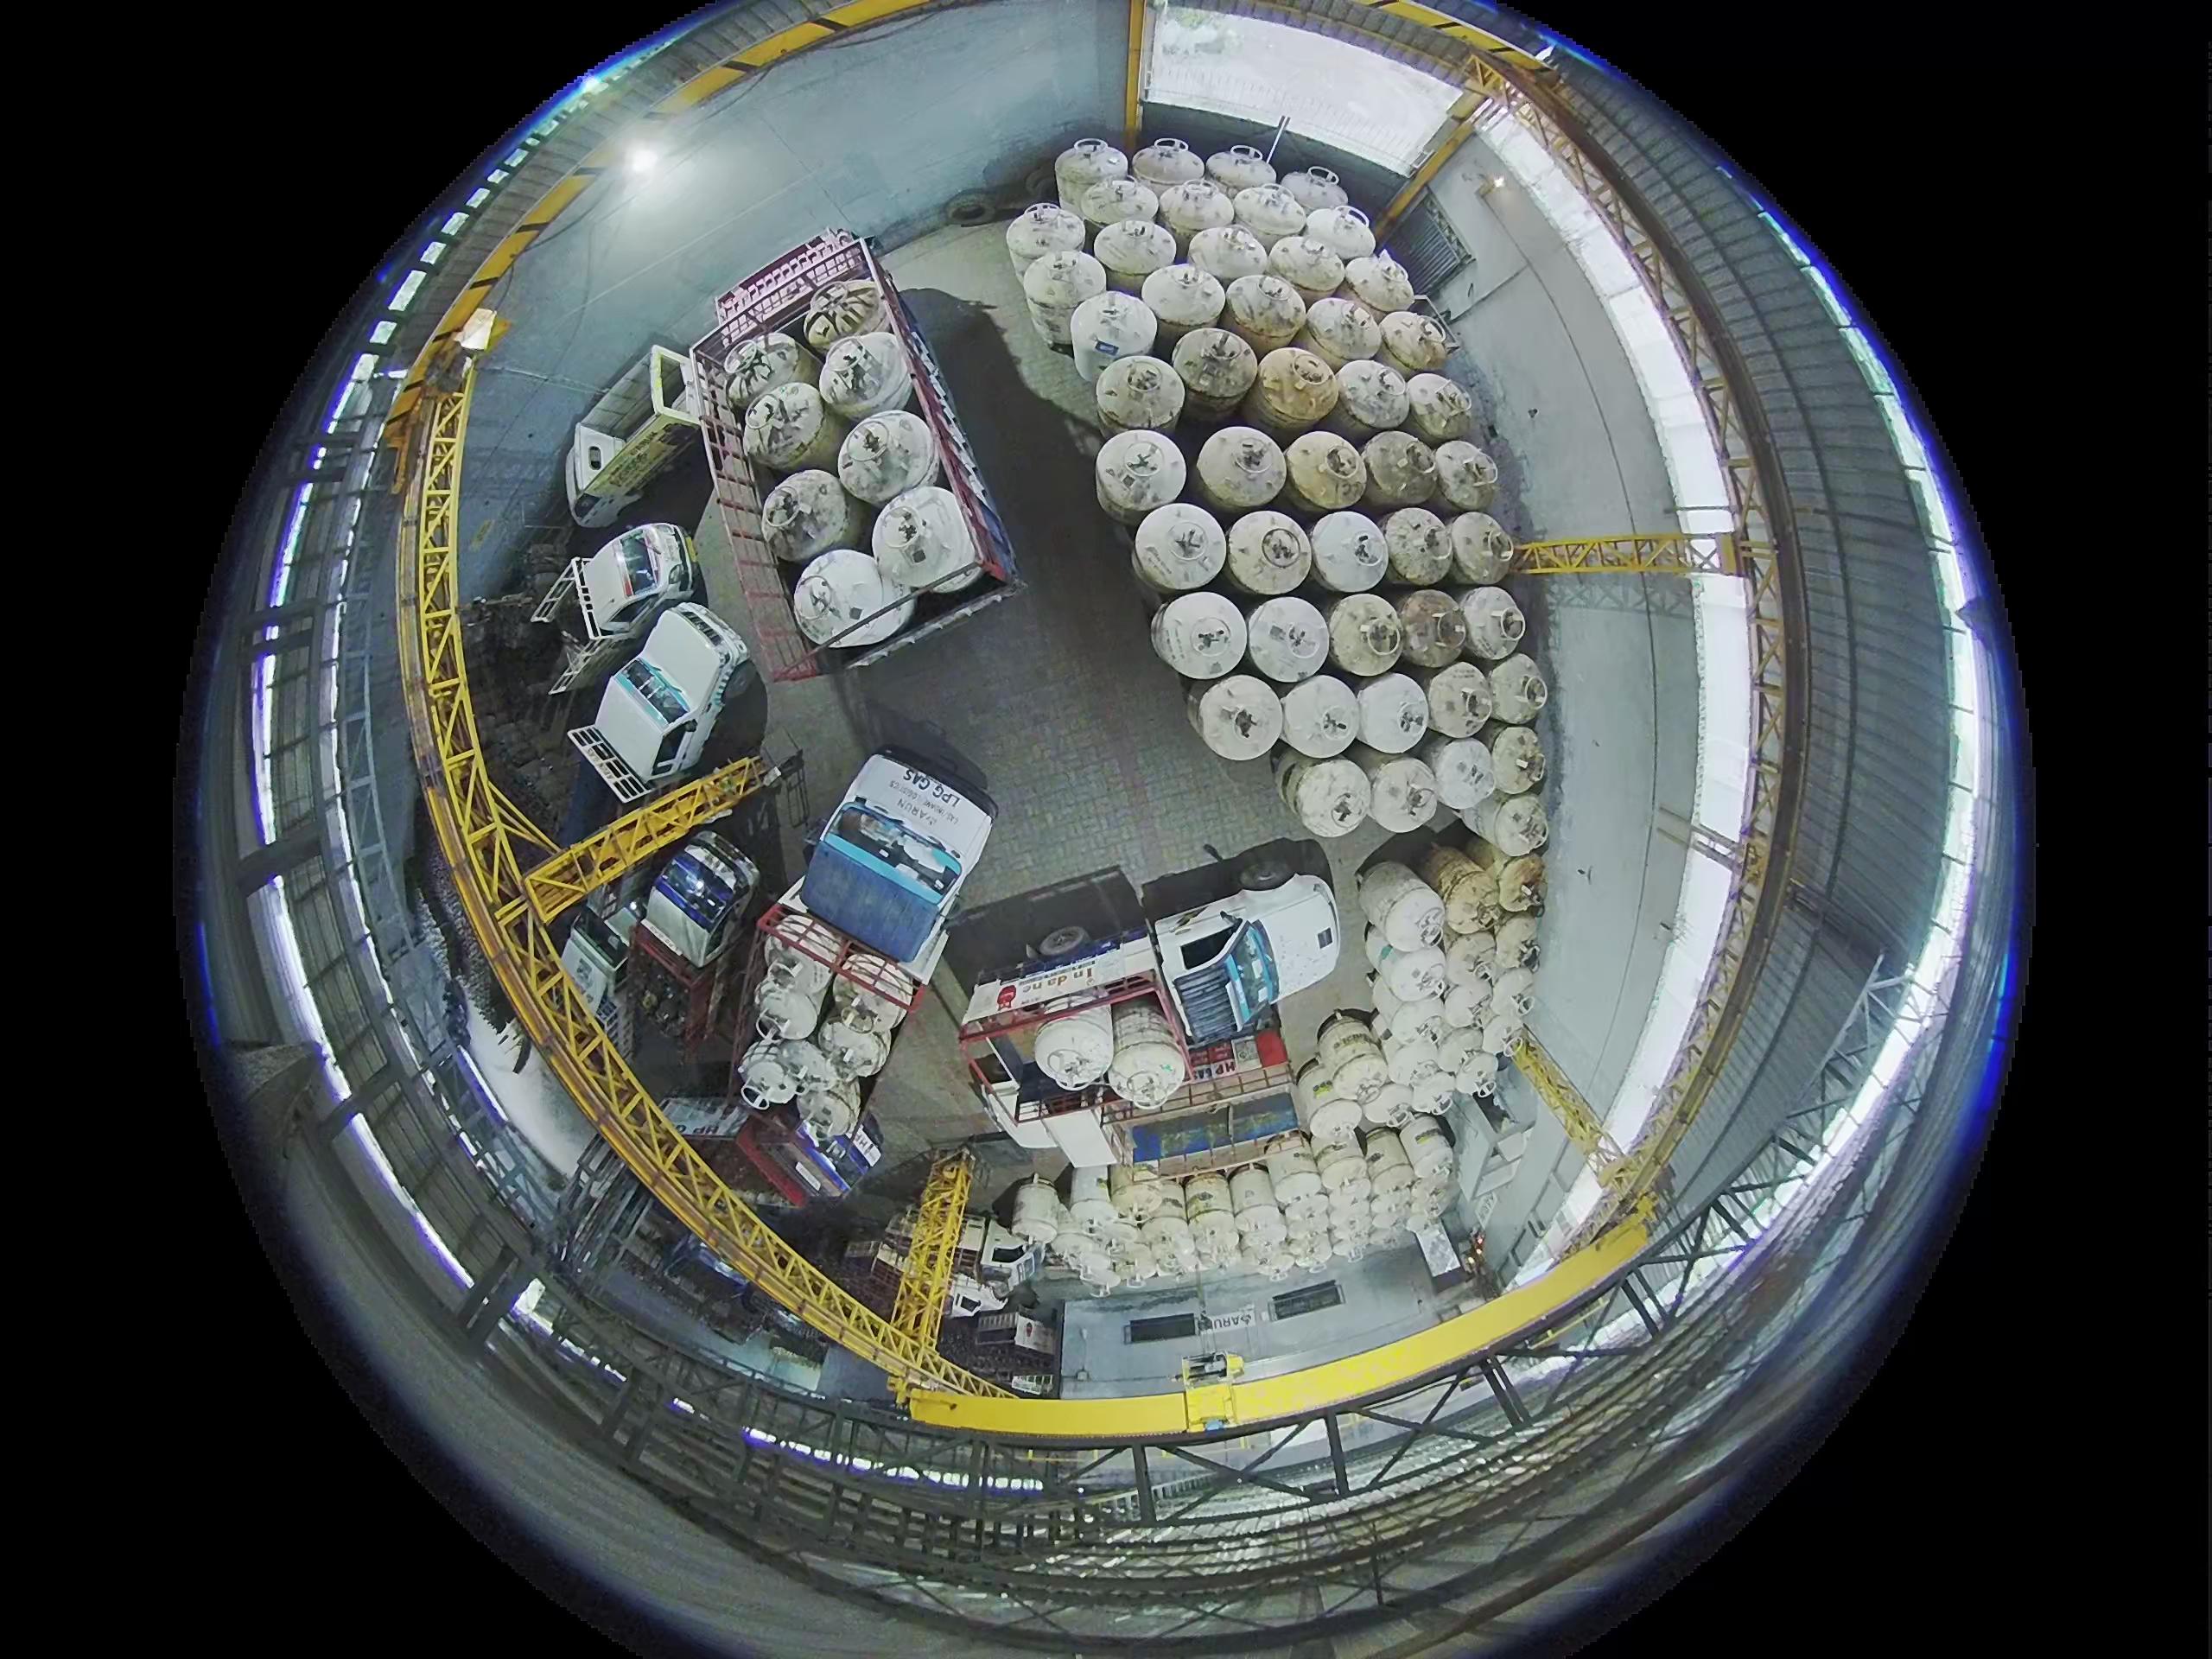cylinder: (1116, 427, 1214, 530), (759, 467, 862, 565), (838, 411, 937, 507), (817, 331, 918, 423), (1150, 589, 1251, 681), (740, 380, 838, 474), (1132, 502, 1230, 596), (1104, 999, 1183, 1110), (1195, 425, 1289, 514), (1355, 859, 1446, 950), (1195, 673, 1287, 760), (1170, 324, 1259, 413), (1021, 251, 1099, 350), (1224, 511, 1315, 596), (1278, 753, 1371, 836), (1069, 291, 1151, 385), (799, 275, 892, 357), (1308, 507, 1393, 594), (1252, 345, 1339, 430), (1245, 598, 1332, 683), (1284, 430, 1369, 516), (1094, 354, 1181, 437), (719, 333, 806, 416), (1278, 673, 1364, 756), (1221, 272, 1308, 352), (1325, 592, 1407, 676), (1031, 1011, 1111, 1096), (1141, 261, 1226, 340), (1362, 429, 1442, 511), (1355, 673, 1432, 756), (1334, 357, 1413, 437), (1381, 507, 1458, 589), (1393, 589, 1470, 669), (1155, 178, 1237, 253), (1005, 202, 1083, 279), (1303, 295, 1383, 369), (1188, 221, 1273, 291), (1367, 755, 1442, 831), (1425, 660, 1498, 739), (1094, 216, 1174, 286), (1402, 373, 1475, 448), (1055, 138, 1130, 211), (1426, 735, 1496, 814), (751, 971, 829, 1040), (1076, 176, 1153, 246), (1299, 204, 1379, 270), (1432, 439, 1501, 514), (1458, 586, 1527, 660), (1379, 310, 1454, 380), (1231, 183, 1310, 249), (1372, 943, 1451, 1009), (1318, 1044, 1390, 1115), (1381, 1030, 1454, 1100), (1447, 509, 1515, 584), (1266, 232, 1345, 296), (1341, 253, 1418, 317), (1484, 652, 1550, 723), (1129, 138, 1204, 200), (1487, 723, 1548, 796), (1378, 999, 1451, 1060), (1007, 1175, 1068, 1248), (1315, 1009, 1383, 1073), (1440, 870, 1503, 938), (1399, 1117, 1456, 1190), (1487, 791, 1550, 857), (1205, 145, 1278, 200), (1440, 936, 1501, 1000), (1306, 1087, 1371, 1147), (1280, 166, 1350, 220), (824, 979, 890, 1035), (1353, 1082, 1416, 1136), (1493, 854, 1547, 917), (1439, 971, 1496, 1028), (1479, 1004, 1534, 1063), (1054, 1229, 1113, 1284), (1484, 967, 1538, 1026), (1430, 1023, 1486, 1079), (1115, 1175, 1176, 1225), (1266, 1145, 1320, 1201), (1493, 913, 1543, 972), (1233, 1202, 1287, 1255), (1360, 1127, 1413, 1182), (1146, 1216, 1198, 1270), (1228, 1162, 1282, 1215), (1190, 1209, 1240, 1265), (1460, 833, 1510, 885), (1447, 1047, 1496, 1100), (1066, 1195, 1122, 1241), (1183, 1171, 1233, 1220), (1325, 1185, 1372, 1237), (1317, 1148, 1371, 1194), (1282, 1185, 1332, 1232), (1367, 1162, 1418, 1204), (1406, 1183, 1453, 1225), (1284, 1229, 1331, 1270)
truck: (688, 228, 1017, 681), (730, 746, 996, 1195), (960, 838, 1343, 1133), (521, 605, 765, 854), (812, 1171, 1045, 1391), (559, 605, 766, 845), (631, 829, 751, 1117), (559, 342, 716, 535), (531, 521, 700, 695)
